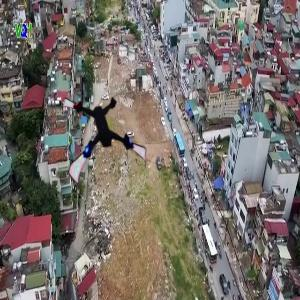drone: (61, 93, 152, 184)
